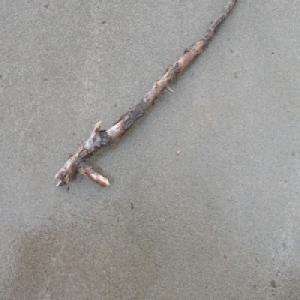Wood: (52, 0, 237, 189)
